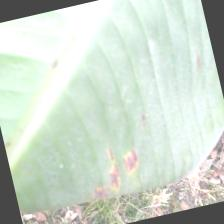sigatoka: (0, 0, 224, 218)
